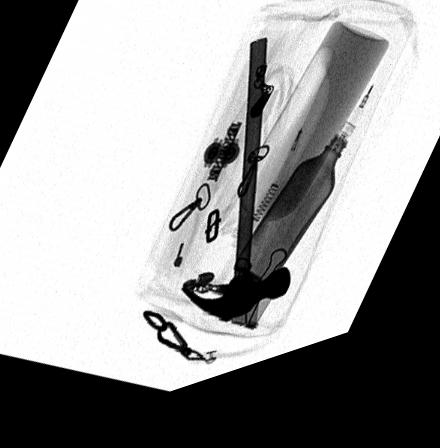Hammer: (181, 51, 292, 333)
